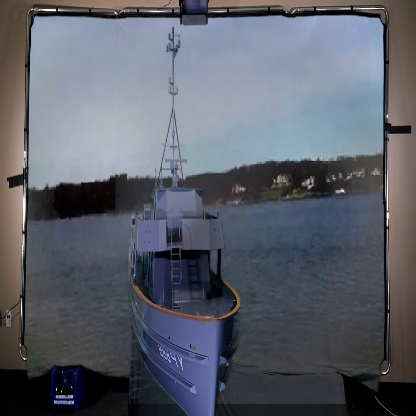YP689: (126, 26, 243, 416)
